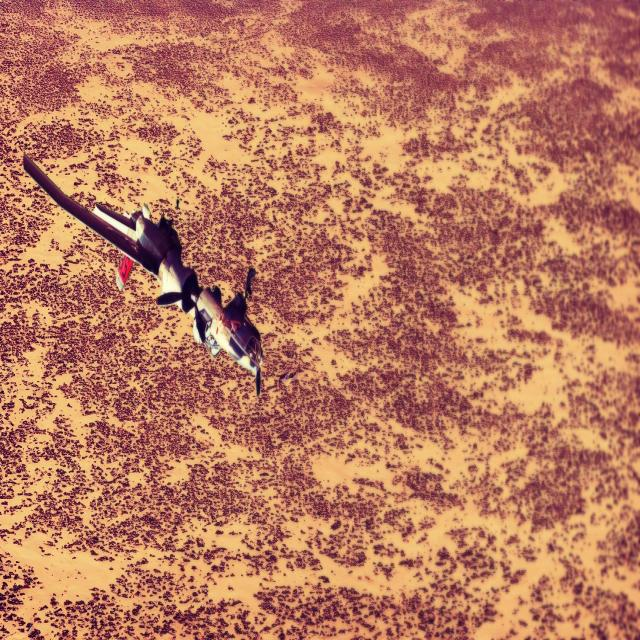airplane: (22, 152, 264, 397)
